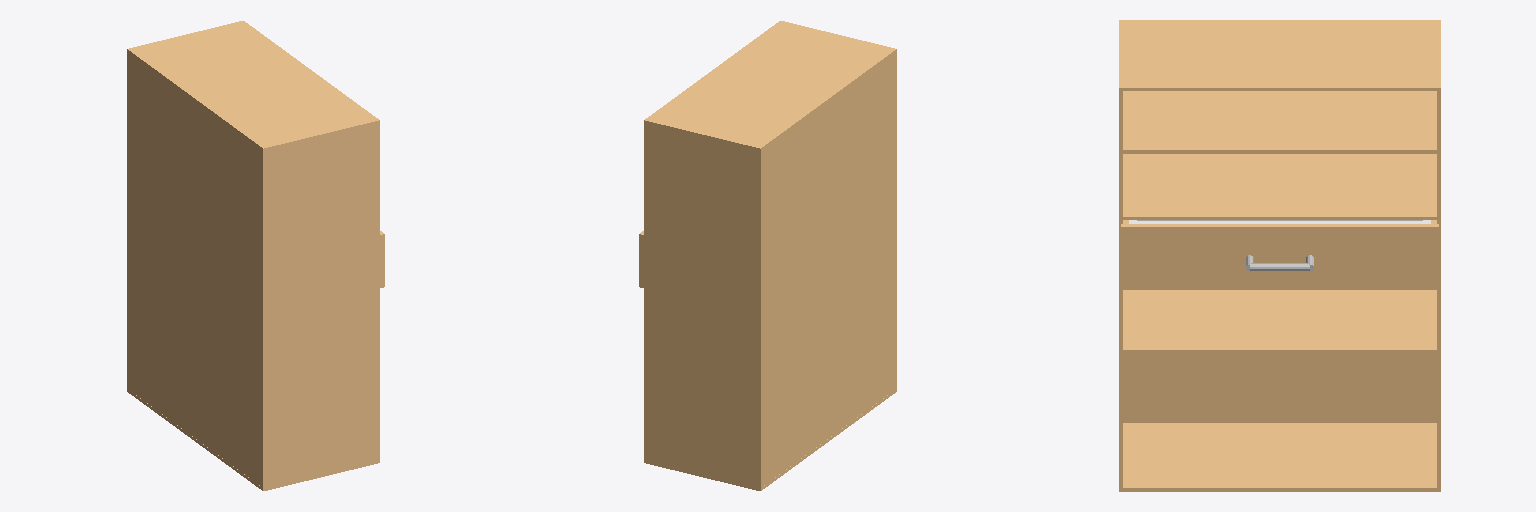
The robot description file, URDF, robot "room610-shelf0-1-robot":
<?xml version="1.0"?>
<robot name="room610-shelf0-1-robot"
       xmlns:xi="http://www.w3.org/2001/XInclude"
       >
  <gazebo>
    <static>false</static>
  </gazebo>
  <link name="ROOT_link">
    <visual>
      <origin xyz="0 0 0" rpy="0 -0 0"/>
      <geometry>
        <mesh filename="model://room610-shelf0-1/meshes/ROOT_link_mesh.dae" scale="1 1 1" />
      </geometry>
    </visual>
    <collision>
      <origin xyz="0 0 0" rpy="0 -0 0"/>
      <geometry>
        <mesh filename="model://room610-shelf0-1/meshes/ROOT_link_mesh.dae" scale="1 1 1" />
      </geometry>
    </collision>
    <inertial>
      <mass value="0.001" />
      <origin xyz="0 0 0" rpy="0 -0 0"/>
      <inertia ixx="1e-03" ixy="0" ixz="0" iyy="1e-03" iyz="0" izz="1e-03"/>
    </inertial>
  </link>
  <gazebo reference="ROOT_link">
    <mu1>0.9</mu1>
    <mu2>0.9</mu2>
  </gazebo>
  <link name="SHELF0-BODYSET6_link">
    <visual>
      <origin xyz="0.0055 0 0.175" rpy="0 -0 0"/>
      <geometry>
        <mesh filename="model://room610-shelf0-1/meshes/SHELF0-BODYSET6_link_mesh.dae" scale="1 1 1" />
      </geometry>
    </visual>
    <collision>
      <origin xyz="0.0055 0 0.175" rpy="0 -0 0"/>
      <geometry>
        <mesh filename="model://room610-shelf0-1/meshes/SHELF0-BODYSET6_link_mesh.dae" scale="1 1 1" />
      </geometry>
    </collision>
    <inertial>
      <mass value="0.001" />
      <origin xyz="0 0 0" rpy="0 -0 0"/>
      <inertia ixx="1e-03" ixy="0" ixz="0" iyy="1e-03" iyz="0" izz="1e-03"/>
    </inertial>
  </link>
  <gazebo reference="SHELF0-BODYSET6_link">
    <mu1>0.9</mu1>
    <mu2>0.9</mu2>
  </gazebo>
  <link name="SHELF0-BODYSET5_link">
    <visual>
      <origin xyz="0.0055 0 0.45625" rpy="0 -0 0"/>
      <geometry>
        <mesh filename="model://room610-shelf0-1/meshes/SHELF0-BODYSET5_link_mesh.dae" scale="1 1 1" />
      </geometry>
    </visual>
    <collision>
      <origin xyz="0.0055 0 0.45625" rpy="0 -0 0"/>
      <geometry>
        <mesh filename="model://room610-shelf0-1/meshes/SHELF0-BODYSET5_link_mesh.dae" scale="1 1 1" />
      </geometry>
    </collision>
    <inertial>
      <mass value="0.001" />
      <origin xyz="0 0 0" rpy="0 -0 0"/>
      <inertia ixx="1e-03" ixy="0" ixz="0" iyy="1e-03" iyz="0" izz="1e-03"/>
    </inertial>
  </link>
  <gazebo reference="SHELF0-BODYSET5_link">
    <mu1>0.9</mu1>
    <mu2>0.9</mu2>
  </gazebo>
  <link name="SHELF0-BODYSET4_link">
    <visual>
      <origin xyz="0.0055 0 0.63875" rpy="0 -0 0"/>
      <geometry>
        <mesh filename="model://room610-shelf0-1/meshes/SHELF0-BODYSET4_link_mesh.dae" scale="1 1 1" />
      </geometry>
    </visual>
    <collision>
      <origin xyz="0.0055 0 0.63875" rpy="0 -0 0"/>
      <geometry>
        <mesh filename="model://room610-shelf0-1/meshes/SHELF0-BODYSET4_link_mesh.dae" scale="1 1 1" />
      </geometry>
    </collision>
    <inertial>
      <mass value="0.001" />
      <origin xyz="0 0 0" rpy="0 -0 0"/>
      <inertia ixx="1e-03" ixy="0" ixz="0" iyy="1e-03" iyz="0" izz="1e-03"/>
    </inertial>
  </link>
  <gazebo reference="SHELF0-BODYSET4_link">
    <mu1>0.9</mu1>
    <mu2>0.9</mu2>
  </gazebo>
  <link name="SHELF0-BODYSET3_link">
    <visual>
      <origin xyz="0.0055 0 0.82125" rpy="0 -0 0"/>
      <geometry>
        <mesh filename="model://room610-shelf0-1/meshes/SHELF0-BODYSET3_link_mesh.dae" scale="1 1 1" />
      </geometry>
    </visual>
    <collision>
      <origin xyz="0.0055 0 0.82125" rpy="0 -0 0"/>
      <geometry>
        <mesh filename="model://room610-shelf0-1/meshes/SHELF0-BODYSET3_link_mesh.dae" scale="1 1 1" />
      </geometry>
    </collision>
    <inertial>
      <mass value="0.001" />
      <origin xyz="0 0 0" rpy="0 -0 0"/>
      <inertia ixx="1e-03" ixy="0" ixz="0" iyy="1e-03" iyz="0" izz="1e-03"/>
    </inertial>
  </link>
  <gazebo reference="SHELF0-BODYSET3_link">
    <mu1>0.9</mu1>
    <mu2>0.9</mu2>
  </gazebo>
  <link name="SHELF0-BODYSET2_link">
    <visual>
      <origin xyz="0.0055 0 1.00375" rpy="0 -0 0"/>
      <geometry>
        <mesh filename="model://room610-shelf0-1/meshes/SHELF0-BODYSET2_link_mesh.dae" scale="1 1 1" />
      </geometry>
    </visual>
    <collision>
      <origin xyz="0.0055 0 1.00375" rpy="0 -0 0"/>
      <geometry>
        <mesh filename="model://room610-shelf0-1/meshes/SHELF0-BODYSET2_link_mesh.dae" scale="1 1 1" />
      </geometry>
    </collision>
    <inertial>
      <mass value="0.001" />
      <origin xyz="0 0 0" rpy="0 -0 0"/>
      <inertia ixx="1e-03" ixy="0" ixz="0" iyy="1e-03" iyz="0" izz="1e-03"/>
    </inertial>
  </link>
  <gazebo reference="SHELF0-BODYSET2_link">
    <mu1>0.9</mu1>
    <mu2>0.9</mu2>
  </gazebo>
  <joint name="DRAWER0" type="prismatic">
    <parent link="ROOT_link"/>
    <child  link="SHELF0-BODYSET6_link"/>
    <origin xyz="0.0055 0 0.175" rpy="0 -0 0 "/>
    <axis   xyz="1 0 0"/>
    <limit lower="0" upper="0.405" effort="100" velocity="0.01" />
    <dynamics damping="0.2" friction="0" />
  </joint>
  <transmission type="pr2_mechanism_model/SimpleTransmission" name="DRAWER0_trans" >
    <actuator name="DRAWER0_motor" />
    <joint name="DRAWER0" />
    <mechanicalReduction>1</mechanicalReduction>
  </transmission>
  <gazebo reference="DRAWER0">
    <cfmDamping>0.4</cfmDamping>
  </gazebo>
  <joint name="DRAWER1" type="prismatic">
    <parent link="ROOT_link"/>
    <child  link="SHELF0-BODYSET5_link"/>
    <origin xyz="0.0055 0 0.45625" rpy="0 -0 0 "/>
    <axis   xyz="1 0 0"/>
    <limit lower="0" upper="0.405" effort="100" velocity="0.01" />
    <dynamics damping="0.2" friction="0" />
  </joint>
  <transmission type="pr2_mechanism_model/SimpleTransmission" name="DRAWER1_trans" >
    <actuator name="DRAWER1_motor" />
    <joint name="DRAWER1" />
    <mechanicalReduction>1</mechanicalReduction>
  </transmission>
  <gazebo reference="DRAWER1">
    <cfmDamping>0.4</cfmDamping>
  </gazebo>
  <joint name="DRAWER2" type="prismatic">
    <parent link="ROOT_link"/>
    <child  link="SHELF0-BODYSET4_link"/>
    <origin xyz="0.0055 0 0.63875" rpy="0 -0 0 "/>
    <axis   xyz="1 0 0"/>
    <limit lower="0" upper="0.405" effort="100" velocity="0.01" />
    <dynamics damping="0.2" friction="0" />
  </joint>
  <transmission type="pr2_mechanism_model/SimpleTransmission" name="DRAWER2_trans" >
    <actuator name="DRAWER2_motor" />
    <joint name="DRAWER2" />
    <mechanicalReduction>1</mechanicalReduction>
  </transmission>
  <gazebo reference="DRAWER2">
    <cfmDamping>0.4</cfmDamping>
  </gazebo>
  <joint name="DRAWER3" type="prismatic">
    <parent link="ROOT_link"/>
    <child  link="SHELF0-BODYSET3_link"/>
    <origin xyz="0.0055 0 0.82125" rpy="0 -0 0 "/>
    <axis   xyz="1 0 0"/>
    <limit lower="0" upper="0.405" effort="100" velocity="0.01" />
    <dynamics damping="0.2" friction="0" />
  </joint>
  <transmission type="pr2_mechanism_model/SimpleTransmission" name="DRAWER3_trans" >
    <actuator name="DRAWER3_motor" />
    <joint name="DRAWER3" />
    <mechanicalReduction>1</mechanicalReduction>
  </transmission>
  <gazebo reference="DRAWER3">
    <cfmDamping>0.4</cfmDamping>
  </gazebo>
  <joint name="DRAWER4" type="prismatic">
    <parent link="ROOT_link"/>
    <child  link="SHELF0-BODYSET2_link"/>
    <origin xyz="0.0055 0 1.00375" rpy="0 -0 0 "/>
    <axis   xyz="1 0 0"/>
    <limit lower="0" upper="0.405" effort="100" velocity="0.01" />
    <dynamics damping="0.2" friction="0" />
  </joint>
  <transmission type="pr2_mechanism_model/SimpleTransmission" name="DRAWER4_trans" >
    <actuator name="DRAWER4_motor" />
    <joint name="DRAWER4" />
    <mechanicalReduction>1</mechanicalReduction>
  </transmission>
  <gazebo reference="DRAWER4">
    <cfmDamping>0.4</cfmDamping>
  </gazebo>
</robot>

--- What the picture shows (computed from the rendered views, not written in the file) ---
The picture shows the robot from 3 angles, left to right: view 1: azimuth 30°, elevation 25°; view 2: azimuth 150°, elevation 25°; view 3: azimuth 270°, elevation 25°; orthographic projection.
Model room610-shelf0-1-robot with 6 links and 5 joints (5 prismatic), rooted at ROOT_link, posed every joint at zero.
Links seen in each view (by area): view 1: ROOT_link; view 2: ROOT_link; view 3: ROOT_link, SHELF0-BODYSET4_link.
Boxes of the visible links, x1,y1,x2,y2 form: ROOT_link: (127, 21, 379, 490); ROOT_link: (644, 21, 896, 490); ROOT_link: (1119, 20, 1440, 491); SHELF0-BODYSET4_link: (1121, 220, 1438, 289).
Size in the robot's own frame: 0.475 by 0.8 by 1.11 metres.
2 mesh visuals loaded from 6 distinct referenced files (2 Collada DAE); not drawn: 4 (reference not matched to a file when rendering).